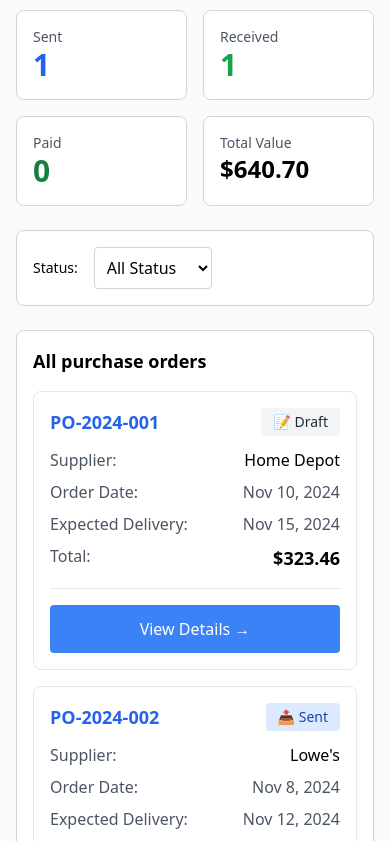
Test: PurchaseOrders Component - Phase 2B › should display expected delivery date
(page scrolled)
// Get the first button (either mobile or desktop view)
Click the button "PO-2024-001": (152, 422) [50, 408, 253, 436]
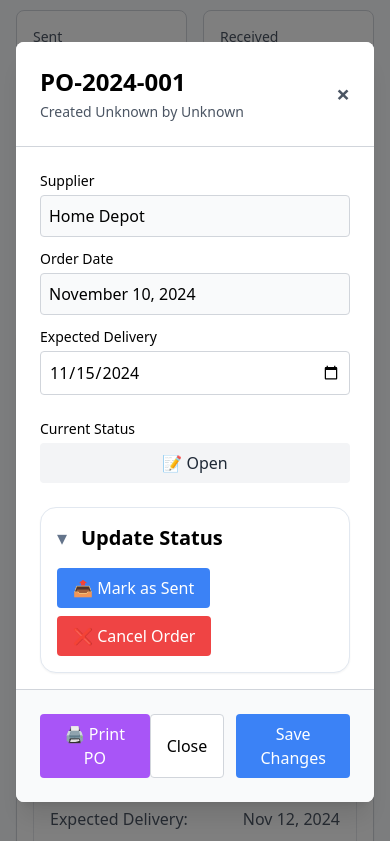
expect the date field labelled "Expected Delivery" is shown: met, box [40, 351, 350, 395]
